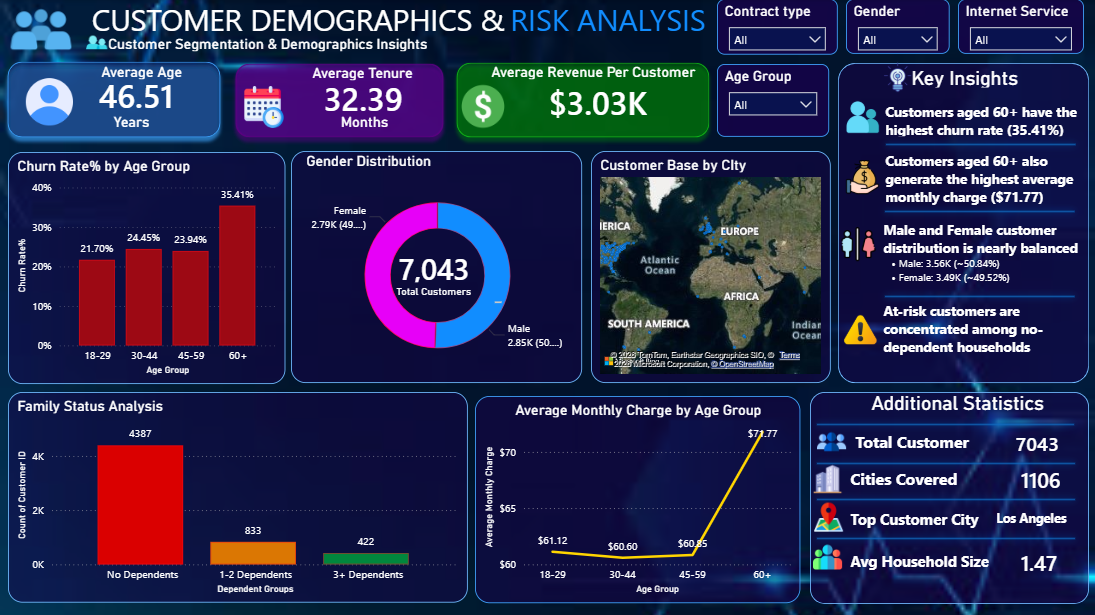

The dashboard page shown, as its layout file describes it:
{"tool":"powerbi","page":{"name":"Page 2","canvas":[1280,720],"ordinal":1},"visuals":[{"type":"shape","box":[0,64.2,266.3,106.3],"z":0},{"type":"clusteredColumnChart","title":"Churn Rate% by Age Group","fields":{"Y":["cleaned_tc_cust_churn.Churn Rate%"],"Category":["AgeGroupSort.Age Group"]},"box":[9.3,178.7,323.5,270.9],"z":1000},{"type":"lineChart","fields":{"Y":["cleaned_tc_cust_churn.Average Monthly Charge"],"Category":["AgeGroupSort.Age Group"]},"box":[554.7,463.6,379.6,241.8],"z":2000},{"type":"cardVisual","title":"Avg Age","fields":{"Data":["Avg(cleaned_tc_cust_churn.Age)"]},"box":[86.4,71.2,153,79.4],"z":3000},{"type":"textbox","title":"CUSTOMER DEMOGRAPHICS  &","box":[96.9,0,502.2,51.4],"z":4000},{"type":"textbox","title":"RISK ANALYSIS","box":[590.9,0,260.4,51.4],"z":5000},{"type":"textbox","title":"Average Age","box":[113.3,74.7,113.3,24.5],"z":6000},{"type":"textbox","title":"Years","box":[96.9,133.1,113.3,18.7],"z":7000},{"type":"image","box":[29.2,80.6,57.2,78.2],"z":8000},{"type":"shape","box":[266.3,66.6,260.4,103.9],"z":9000},{"type":"cardVisual","title":"Avg Age","fields":{"Data":["Avg(cleaned_tc_cust_churn.Tenure in Months)"]},"box":[349.2,74.7,153,79.4],"z":10000},{"type":"textbox","title":"Average Tenure","box":[359.7,75.9,133.1,23.4],"z":11000},{"type":"textbox","title":"Months","box":[369.1,133.1,113.3,18.7],"z":12000},{"type":"image","box":[283.8,94.6,49.1,63.1],"z":13000},{"type":"shape","box":[524.4,65.4,313,105.1],"z":14000},{"type":"cardVisual","title":"Avg Age","fields":{"Data":["cleaned_tc_cust_churn.Average Rev Per Cust"]},"box":[612,79.4,190.4,79.4],"z":15000},{"type":"textbox","title":"Average Revenue Per Customer","box":[568.8,74.7,248.8,24.5],"z":16000},{"type":"image","box":[532.6,89.9,63.1,71.2],"z":17000},{"type":"slicer","title":"Contract type","fields":{"Values":["cleaned_tc_cust_churn.Contract"]},"box":[837.4,0,141.3,65.4],"z":18000},{"type":"slicer","title":"Gender","fields":{"Values":["cleaned_tc_cust_churn.gender short"]},"box":[988,0,121.5,64.2],"z":19000},{"type":"slicer","title":"Internet Service","fields":{"Values":["cleaned_tc_cust_churn.Internet Service"]},"box":[1118.8,0,147.2,64.2],"z":20000},{"type":"donutChart","title":"Gender Distribution","fields":{"Category":["cleaned_tc_cust_churn.Gender"],"Y":["CountNonNull(cleaned_tc_cust_churn.Customer ID)"]},"box":[340,177.3,340.2,271.4],"z":21000},{"type":"cardVisual","fields":{"Data":["Count(cleaned_tc_cust_churn.Customer ID)"]},"box":[436.8,278,158.8,70.1],"z":22000},{"type":"textbox","title":"Total Customers","box":[457.8,335.2,133.1,24.5],"z":23000},{"type":"map","title":"Customer Base by CIty","fields":{"Category":["cleaned_tc_cust_churn.City"],"Size":["CountNonNull(cleaned_tc_cust_churn.Customer ID)"]},"box":[690.1,177.3,279.9,271.4],"z":24000},{"type":"clusteredColumnChart","title":"Family Status Analysis","fields":{"Category":["cleaned_tc_cust_churn.Dependent Groups"],"Y":["CountNonNull(cleaned_tc_cust_churn.Customer ID)"]},"box":[9.3,459,537.2,246.4],"z":25000},{"type":"shape","box":[978.4,74.8,293.2,374],"z":26000},{"type":"textbox","title":"Key Insights","box":[988,79.6,277.5,24.1],"z":27000},{"type":"textbox","title":"Customers aged 60+ have the highest churn rate (35.41%)","box":[1029.1,120.6,237.7,39.8],"z":28000},{"type":"image","box":[1029.1,71.2,38.6,39.8],"z":29000},{"type":"image","box":[988,118.2,38.6,39.8],"z":30000},{"type":"textbox","title":"Customers aged 60+ also generate the highest average monthly charge ($71.77)","box":[1029.1,177.3,237.7,62.7],"z":31000},{"type":"image","box":[983.2,188.2,48.3,39.8],"z":32000},{"type":"textbox","title":"Customers without dependents represent the largest customer segment and should be monitored for churn risk","box":[1026.7,347.4,253.3,88.1],"z":33000},{"type":"textbox","title":"Male and Female customer distribution is nearly balanced Male: 3.56K (~50%) Female: 3.49K (~50%)","box":[1026.7,253.3,253.3,106.2],"z":34000},{"type":"image","box":[978.4,266.6,48.3,39.8],"z":35000},{"type":"image","box":[983.2,359.5,43.4,55.5],"z":36000},{"type":"shape","box":[1026.7,152,237.7,36.2],"z":37000},{"type":"shape","box":[1025.4,329.3,237.7,36.2],"z":38000},{"type":"shape","box":[1025.4,230.4,237.7,36.2],"z":39000},{"type":"shape","box":[946,459,325.8,247.6],"z":40000},{"type":"textbox","title":"Additional Statistics","box":[979.9,459,276.8,23.4],"z":41000},{"type":"textbox","title":"Total Customer","box":[993.9,504.5,146,26.9],"z":42000},{"type":"cardVisual","title":"Avg Age","fields":{"Data":["CountNonNull(cleaned_tc_cust_churn.Customer ID)"]},"box":[1157.4,487,113.3,61.9],"z":43000},{"type":"shape","box":[946,478.8,316.5,36.2],"z":44000},{"type":"shape","box":[946,524.4,317.7,36.2],"z":45000},{"type":"shape","box":[946,560.6,317.7,47.9],"z":46000},{"type":"cardVisual","title":"Avg Age","fields":{"Data":["cleaned_tc_cust_churn.cities cov"]},"box":[1163.2,529.1,116.8,61.9],"z":47000},{"type":"textbox","title":"Cities Covered","box":[988,547.7,147.2,26.9],"z":48000},{"type":"shape","box":[946,601.5,317.7,57.2],"z":49000},{"type":"textbox","title":"Top Customer City","box":[988,595.6,169.3,26.9],"z":50000},{"type":"textbox","title":"Los Angeles","box":[1158.5,595.6,105.1,26.9],"z":51000},{"type":"textbox","title":"Avg Household Size","box":[988,644.7,181,26.9],"z":52000},{"type":"cardVisual","title":"Avg Age","fields":{"Data":["cleaned_tc_cust_churn.avg household size"]},"box":[1163.2,622.5,102.8,70.1],"z":53000},{"type":"slicer","title":"Age Group","fields":{"Values":["cleaned_tc_cust_churn.Age Group"]},"box":[837.4,75.9,130.8,85.3],"z":54000},{"type":"image","box":[954.2,487,33.9,60.7],"z":55000},{"type":"image","box":[949.5,540.7,33.9,39.7],"z":56000},{"type":"image","box":[950.7,585.1,33.9,39.7],"z":57000},{"type":"image","box":[949.5,631.8,33.9,39.7],"z":58000},{"type":"textbox","title":"Customer Segmentation & Demographics Insights","box":[121.5,42,411.1,23.4],"z":59000},{"type":"image","box":[9.3,0,77.1,71.2],"z":60000},{"type":"image","box":[100.4,32.7,24.5,36.2],"z":61000}]}

Visuals, with their boxes in screenshot pixels (x1, y1, x2, y2), scaled from the page's 1280x720 canvas onto the 1095x615 screenshot:
shape: {"x1": 0, "y1": 55, "x2": 228, "y2": 146}
"Churn Rate% by Age Group" clusteredColumnChart: {"x1": 8, "y1": 153, "x2": 285, "y2": 384}
lineChart - cleaned_tc_cust_churn.Average Monthly Charge x AgeGroupSort.Age Group: {"x1": 475, "y1": 396, "x2": 799, "y2": 603}
"Avg Age" cardVisual: {"x1": 74, "y1": 61, "x2": 205, "y2": 129}
"CUSTOMER DEMOGRAPHICS  &" textbox: {"x1": 83, "y1": 0, "x2": 513, "y2": 44}
"RISK ANALYSIS" textbox: {"x1": 505, "y1": 0, "x2": 728, "y2": 44}
"Average Age" textbox: {"x1": 97, "y1": 64, "x2": 194, "y2": 85}
"Years" textbox: {"x1": 83, "y1": 114, "x2": 180, "y2": 130}
image: {"x1": 25, "y1": 69, "x2": 74, "y2": 136}
shape: {"x1": 228, "y1": 57, "x2": 451, "y2": 146}
"Avg Age" cardVisual: {"x1": 299, "y1": 64, "x2": 430, "y2": 132}
"Average Tenure" textbox: {"x1": 308, "y1": 65, "x2": 422, "y2": 85}
"Months" textbox: {"x1": 316, "y1": 114, "x2": 413, "y2": 130}
image: {"x1": 243, "y1": 81, "x2": 285, "y2": 135}
shape: {"x1": 449, "y1": 56, "x2": 716, "y2": 146}
"Avg Age" cardVisual: {"x1": 524, "y1": 68, "x2": 686, "y2": 136}
"Average Revenue Per Customer" textbox: {"x1": 487, "y1": 64, "x2": 699, "y2": 85}
image: {"x1": 456, "y1": 77, "x2": 510, "y2": 138}
"Contract type" slicer: {"x1": 716, "y1": 0, "x2": 837, "y2": 56}
"Gender" slicer: {"x1": 845, "y1": 0, "x2": 949, "y2": 55}
"Internet Service" slicer: {"x1": 957, "y1": 0, "x2": 1083, "y2": 55}
"Gender Distribution" donutChart: {"x1": 291, "y1": 151, "x2": 582, "y2": 383}
cardVisual - Count(cleaned_tc_cust_churn.Customer ID): {"x1": 374, "y1": 237, "x2": 510, "y2": 297}
"Total Customers" textbox: {"x1": 392, "y1": 286, "x2": 505, "y2": 307}
"Customer Base by CIty" map: {"x1": 590, "y1": 151, "x2": 830, "y2": 383}
"Family Status Analysis" clusteredColumnChart: {"x1": 8, "y1": 392, "x2": 468, "y2": 603}
shape: {"x1": 837, "y1": 64, "x2": 1088, "y2": 383}
"Key Insights" textbox: {"x1": 845, "y1": 68, "x2": 1083, "y2": 89}
"Customers aged 60+ have the highest churn rate (35.41%)" textbox: {"x1": 880, "y1": 103, "x2": 1084, "y2": 137}
image: {"x1": 880, "y1": 61, "x2": 913, "y2": 95}
image: {"x1": 845, "y1": 101, "x2": 878, "y2": 135}
"Customers aged 60+ also generate the highest average monthly charge ($71.77)" textbox: {"x1": 880, "y1": 151, "x2": 1084, "y2": 205}
image: {"x1": 841, "y1": 161, "x2": 882, "y2": 195}
"Customers without dependents represent the largest customer segment and should be monitored for churn risk" textbox: {"x1": 878, "y1": 297, "x2": 1094, "y2": 372}
"Male and Female customer distribution is nearly balanced Male: 3.56K (~50%) Female: 3.49K (~50%)" textbox: {"x1": 878, "y1": 216, "x2": 1094, "y2": 307}
image: {"x1": 837, "y1": 228, "x2": 878, "y2": 262}
image: {"x1": 841, "y1": 307, "x2": 878, "y2": 354}
shape: {"x1": 878, "y1": 130, "x2": 1082, "y2": 161}
shape: {"x1": 877, "y1": 281, "x2": 1081, "y2": 312}
shape: {"x1": 877, "y1": 197, "x2": 1081, "y2": 228}
shape: {"x1": 809, "y1": 392, "x2": 1088, "y2": 604}
"Additional Statistics" textbox: {"x1": 838, "y1": 392, "x2": 1075, "y2": 412}
"Total Customer" textbox: {"x1": 850, "y1": 431, "x2": 975, "y2": 454}
"Avg Age" cardVisual: {"x1": 990, "y1": 416, "x2": 1087, "y2": 469}
shape: {"x1": 809, "y1": 409, "x2": 1080, "y2": 440}
shape: {"x1": 809, "y1": 448, "x2": 1081, "y2": 479}
shape: {"x1": 809, "y1": 479, "x2": 1081, "y2": 520}
"Avg Age" cardVisual: {"x1": 995, "y1": 452, "x2": 1094, "y2": 505}
"Cities Covered" textbox: {"x1": 845, "y1": 468, "x2": 971, "y2": 491}
shape: {"x1": 809, "y1": 514, "x2": 1081, "y2": 563}
"Top Customer City" textbox: {"x1": 845, "y1": 509, "x2": 990, "y2": 532}
"Los Angeles" textbox: {"x1": 991, "y1": 509, "x2": 1081, "y2": 532}
"Avg Household Size" textbox: {"x1": 845, "y1": 551, "x2": 1000, "y2": 574}
"Avg Age" cardVisual: {"x1": 995, "y1": 532, "x2": 1083, "y2": 592}
"Age Group" slicer: {"x1": 716, "y1": 65, "x2": 828, "y2": 138}
image: {"x1": 816, "y1": 416, "x2": 845, "y2": 468}
image: {"x1": 812, "y1": 462, "x2": 841, "y2": 496}
image: {"x1": 813, "y1": 500, "x2": 842, "y2": 534}
image: {"x1": 812, "y1": 540, "x2": 841, "y2": 574}
"Customer Segmentation & Demographics Insights" textbox: {"x1": 104, "y1": 36, "x2": 456, "y2": 56}
image: {"x1": 8, "y1": 0, "x2": 74, "y2": 61}
image: {"x1": 86, "y1": 28, "x2": 107, "y2": 59}
